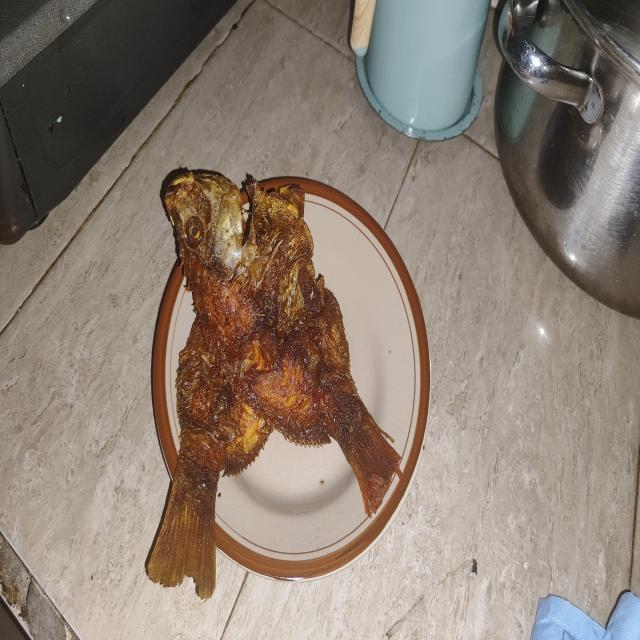ikan_mujair: (164, 172, 400, 520), (147, 183, 312, 600)
